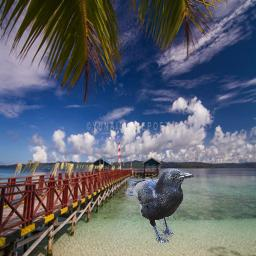Crow: (125, 168, 194, 243)
